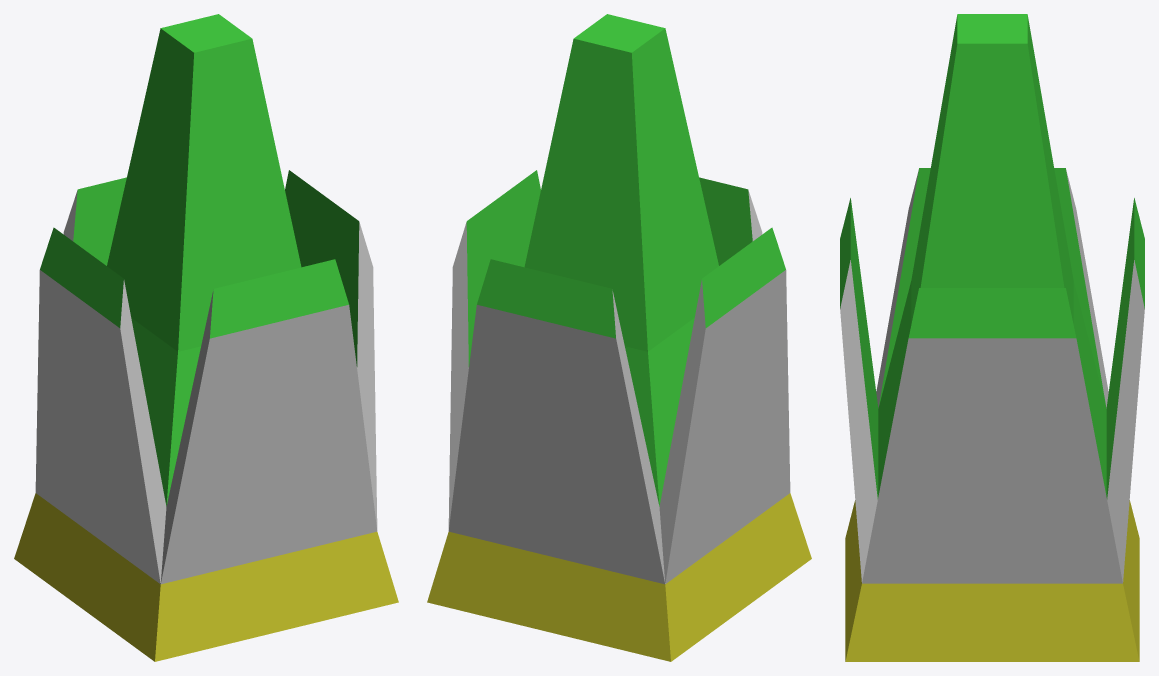
The model's file is speedTower.fbx.
3 views of the same model, side by side, from view 1: azimuth 30°, elevation 25°; view 2: azimuth 150°, elevation 25°; view 3: azimuth 270°, elevation 25° (orthographic). The views are drawn at different scales.
Visible parts, largest first — view 1: Cube; view 2: Cube; view 3: Cube.
Boxes of the visible parts, bbox=[...] form: Cube: bbox=[14, 14, 398, 661]; Cube: bbox=[427, 14, 811, 661]; Cube: bbox=[840, 14, 1144, 661].
Bounding box in the file's own units: 72.55 × 150 × 72.55.
